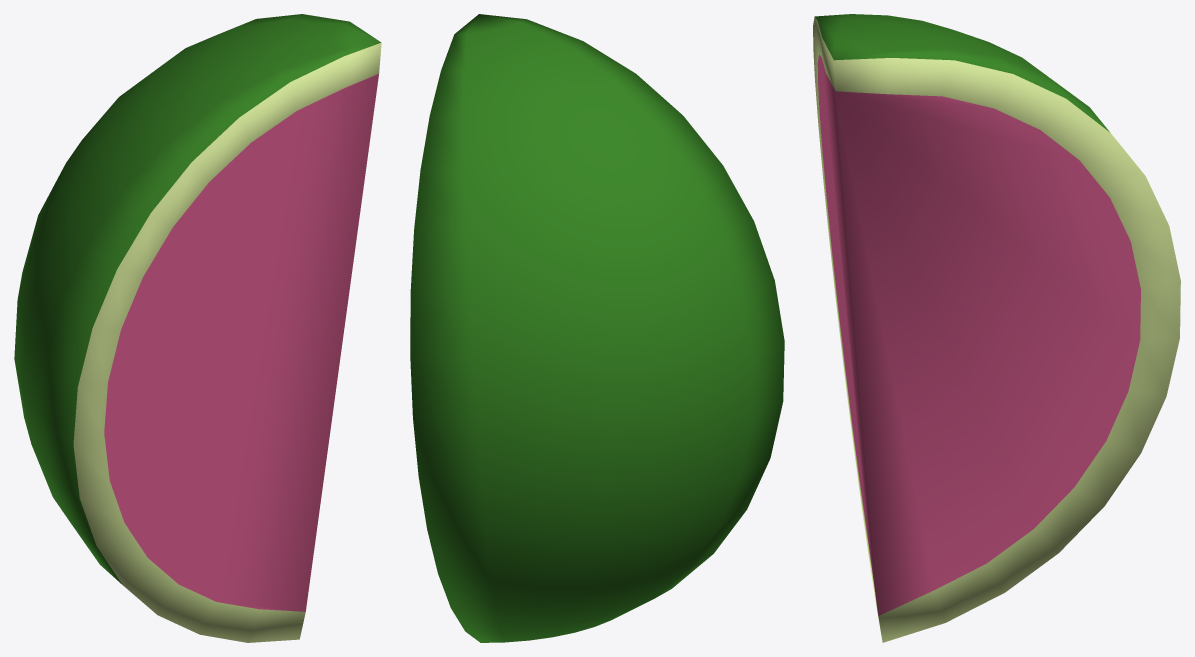
File: melon.glb
3 renders of one model, left to right at view 1: azimuth 30°, elevation 25°; view 2: azimuth 150°, elevation 25°; view 3: azimuth 270°, elevation 25°, orthographic. The views are drawn at different scales.
Parts seen in each view (by area): view 1: Sphere; view 2: Sphere; view 3: Sphere.
Boxes of the visible parts, x1=… form: Sphere: x1=14, y1=14, x2=381, y2=642; Sphere: x1=410, y1=14, x2=784, y2=642; Sphere: x1=813, y1=14, x2=1180, y2=642.
Size of the model in its own units: 9.02 by 16.74 by 9.08.
